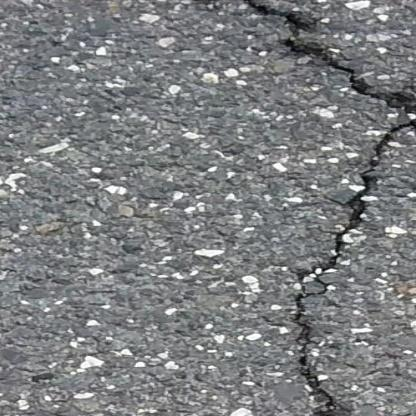Cracks: (138, 0, 416, 149), (274, 141, 416, 416)
